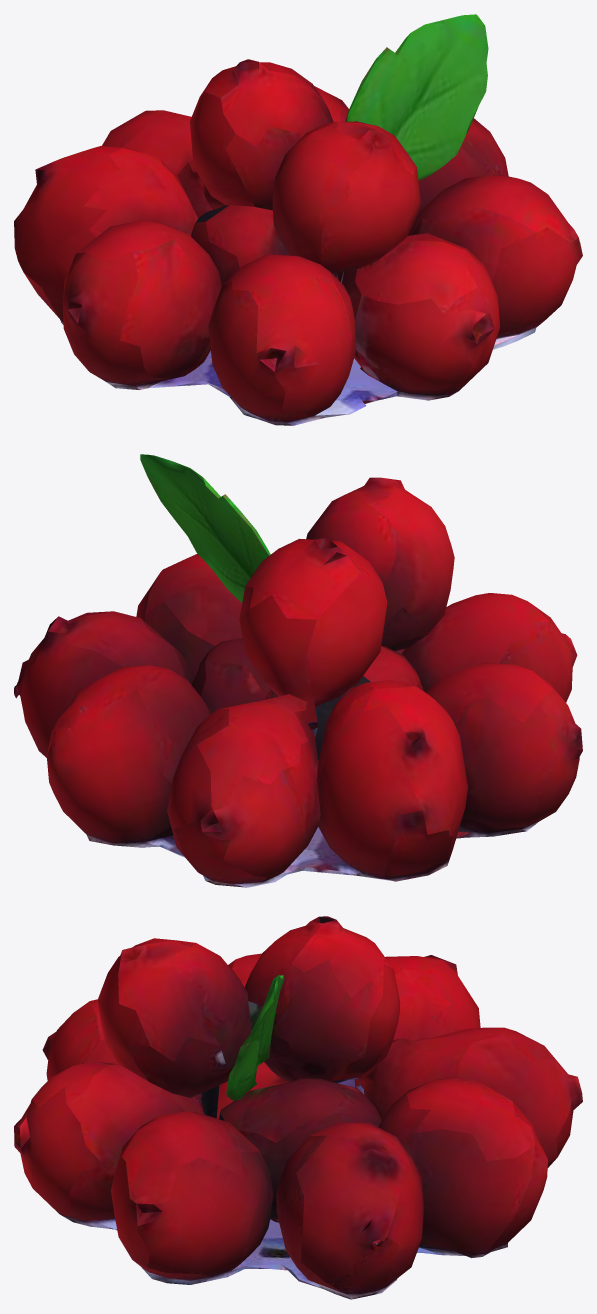
File: cranberry.glb
3 renders of one model, top to bottom at view 1: azimuth 30°, elevation 25°; view 2: azimuth 150°, elevation 25°; view 3: azimuth 270°, elevation 25°, orthographic. The views are drawn at different scales.
Parts seen in each view (by area): view 1: cranberry; view 2: cranberry; view 3: cranberry.
Boxes of the visible parts, left/top/right/bottom form: cranberry: left=14, top=14, right=582, bottom=425; cranberry: left=14, top=454, right=582, bottom=887; cranberry: left=14, top=916, right=582, bottom=1299.
Size of the model in its own units: 1 by 0.5444 by 0.9981.
Materials: 1 (1 with a texture image).
